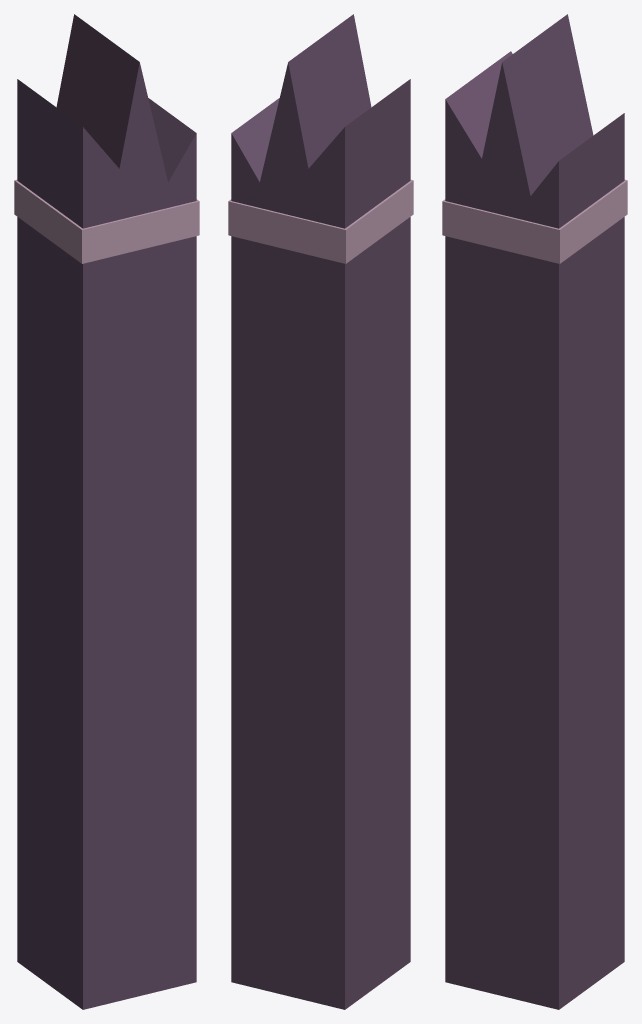
Rendered from TW_WOOD_END_BROKEN_A_LOD0.glb.
The picture shows the model from 3 angles, left to right: view 1: azimuth 30°, elevation 25°; view 2: azimuth 150°, elevation 25°; view 3: azimuth 330°, elevation 25°; orthographic projection.
Parts seen in each view (by area): view 1: TW_WOOD_END_BROKEN_A_LOD0; view 2: TW_WOOD_END_BROKEN_A_LOD0; view 3: TW_WOOD_END_BROKEN_A_LOD0.
Part boxes in pixels (x1,y1,x2,y2): TW_WOOD_END_BROKEN_A_LOD0: (14,14,199,1009); TW_WOOD_END_BROKEN_A_LOD0: (228,14,413,1009); TW_WOOD_END_BROKEN_A_LOD0: (442,14,627,1009).
Size of the model in its own units: 0.145 by 1.1 by 0.145.
1 material, 1 textured.
